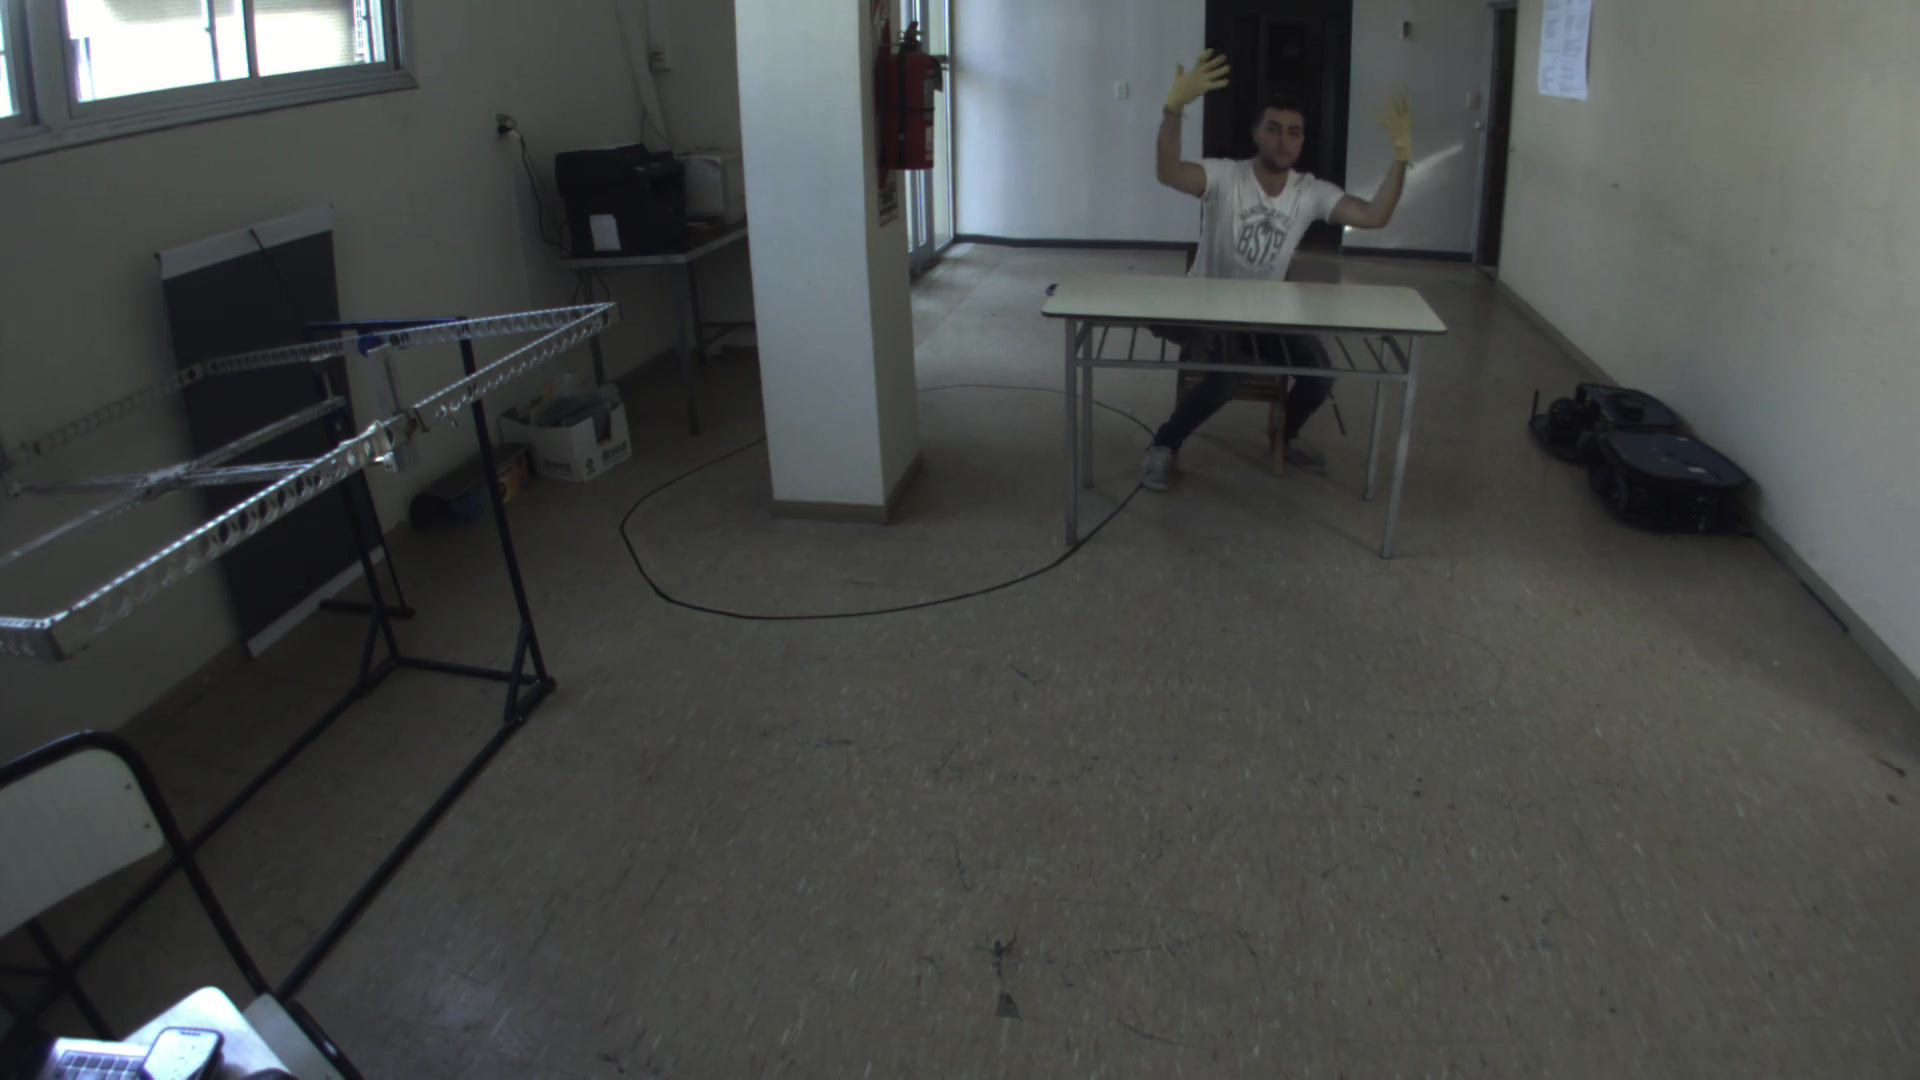hand: (1160, 41, 1249, 127), (1373, 94, 1425, 167)
